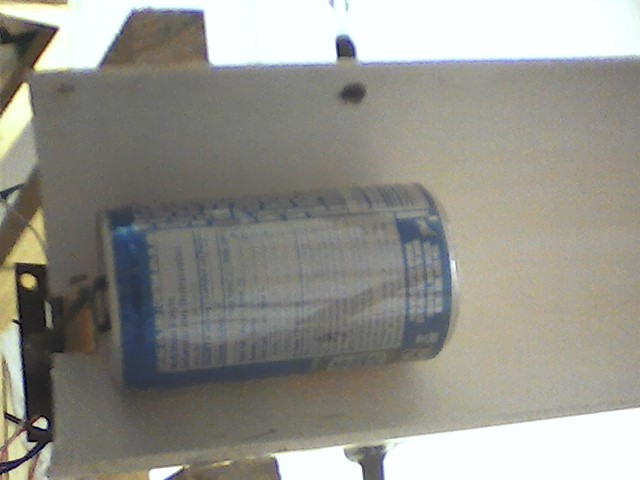lata: (86, 178, 466, 397)
